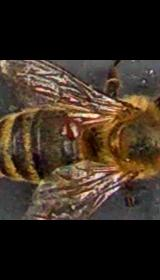varroa_mite: (58, 114, 84, 144)
